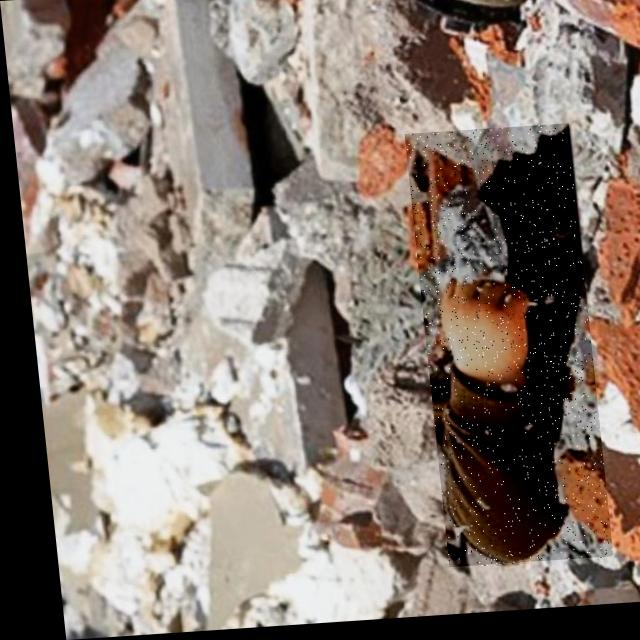Person in Rubble: (401, 131, 600, 573)
